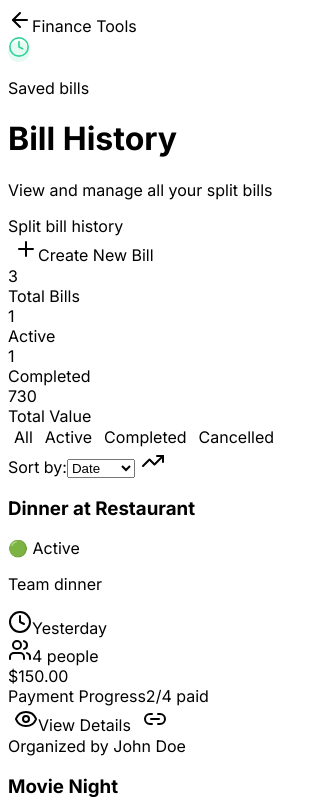
BillHistoryPage › Filter Buttons › should filter bills by cancelled status
This screenshot has width=320, height=800.
expect the heading "Dinner at Restaurant" is shown: met, box [8, 497, 195, 520]
Click the button "Cancelled" at (236, 437), box [193, 426, 280, 448]
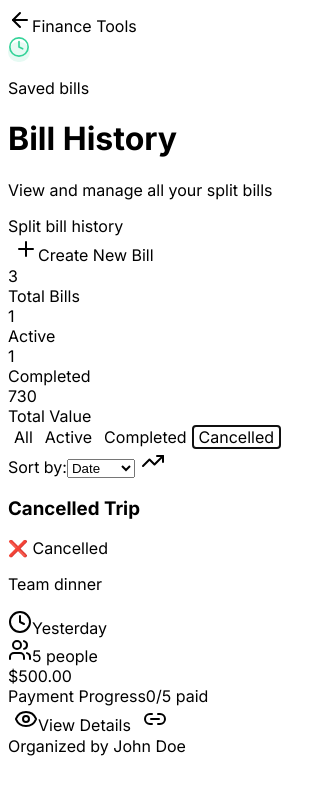
expect the heading "Cancelled Trip" is shown: met, box [8, 497, 140, 520]
expect the heading "Dinner at Restaurant" is gone: met
expect the heading "Movie Night" is gone: met
